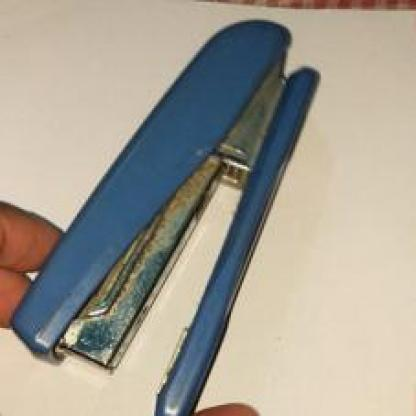stapler: (32, 12, 320, 415)
